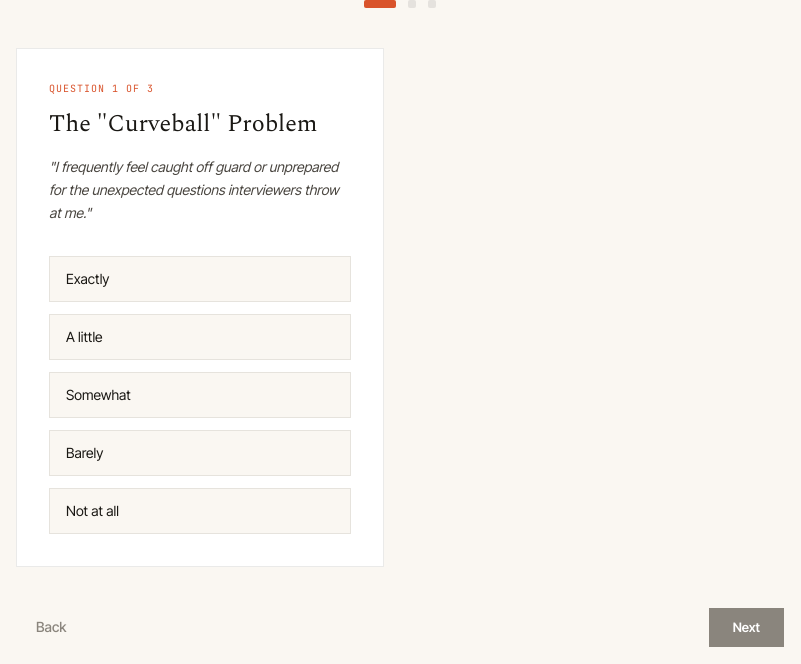
Scenario: SurveyStep › shows value proposition card when Somewhat is selected
Click the button "Somewhat".
click(98, 395)  # box top-left (49, 372), bottom-right (351, 418)
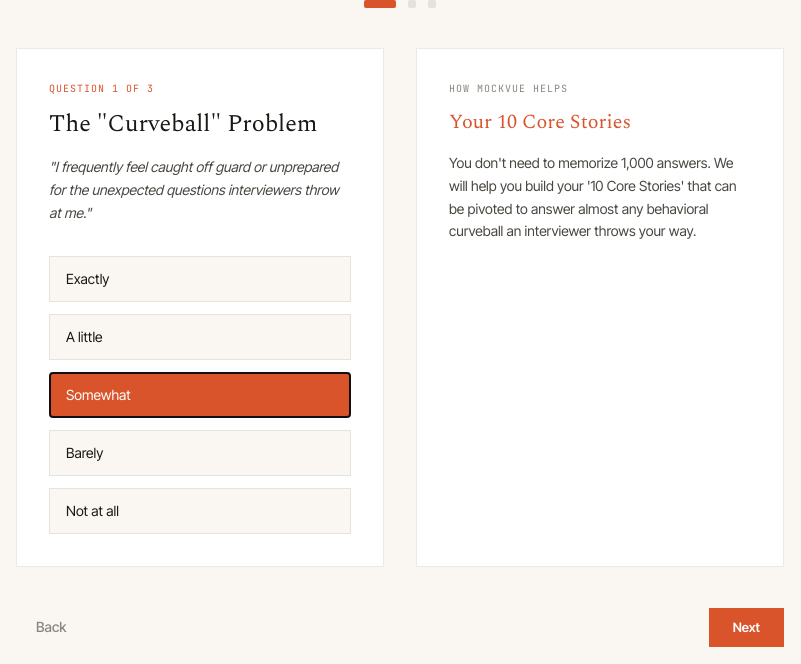
Expected: the heading "Your 10 Core Stories" is shown, top-left (449, 107), bottom-right (631, 137)
